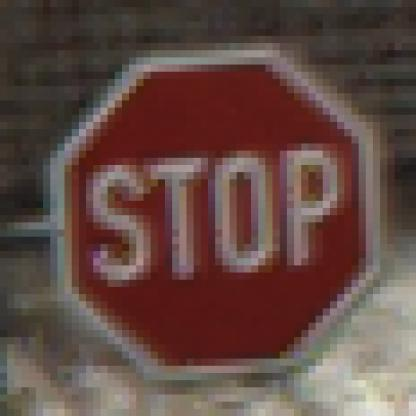stop: (28, 48, 394, 385)
